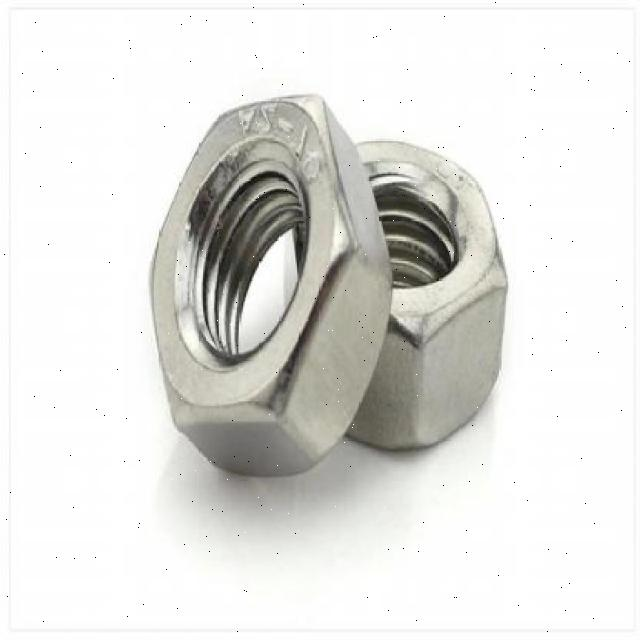Nut: (146, 92, 396, 476), (280, 136, 510, 454)
